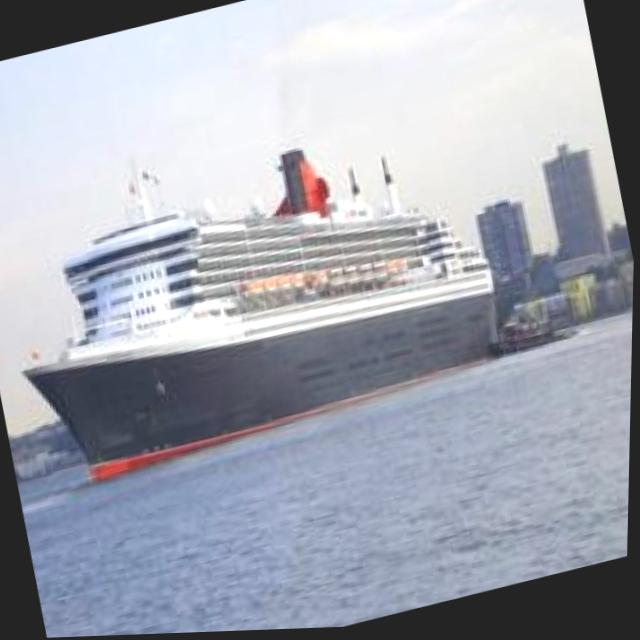ship2: (25, 153, 501, 484)
